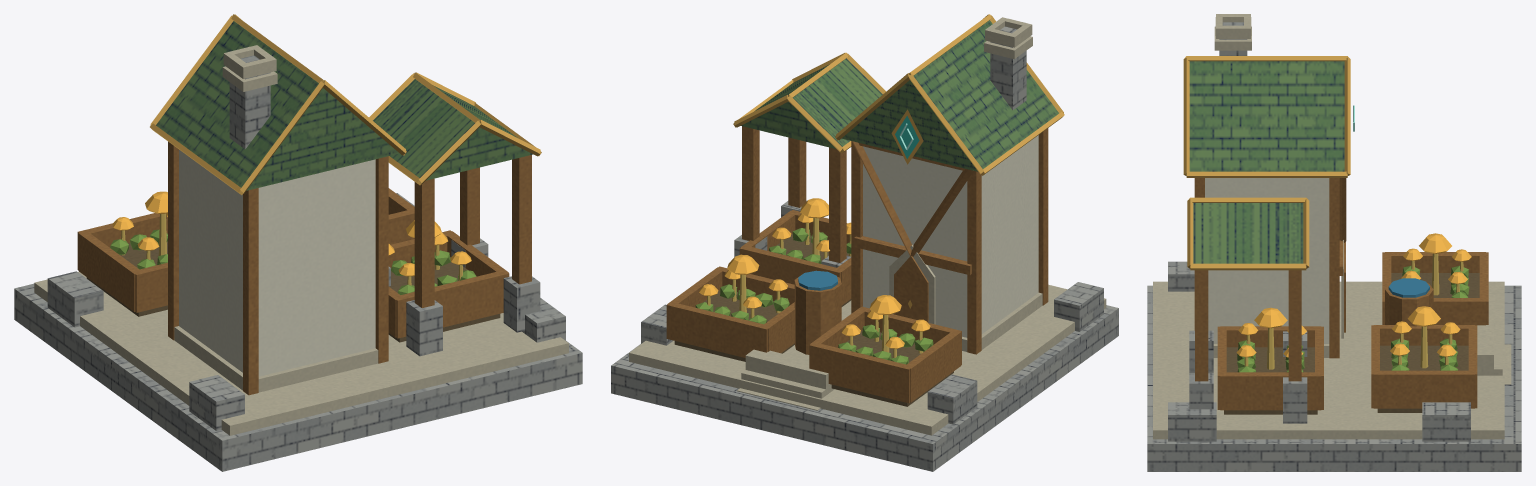
File: Farm_2.fbx
The picture shows the model from 3 angles, left to right: view 1: azimuth 30°, elevation 25°; view 2: azimuth 150°, elevation 25°; view 3: azimuth 270°, elevation 25°; orthographic projection. The views are drawn at different scales.
Parts seen in each view (by area): view 1: BuildingBody; view 2: BuildingBody; view 3: BuildingBody.
Boxes of the visible parts, x1=… form: BuildingBody: x1=14, y1=14, x2=582, y2=471; BuildingBody: x1=611, y1=14, x2=1118, y2=471; BuildingBody: x1=1147, y1=14, x2=1521, y2=471.
Size of the model in its own units: 1 by 0.96 by 1.
1 material, 1 textured.
